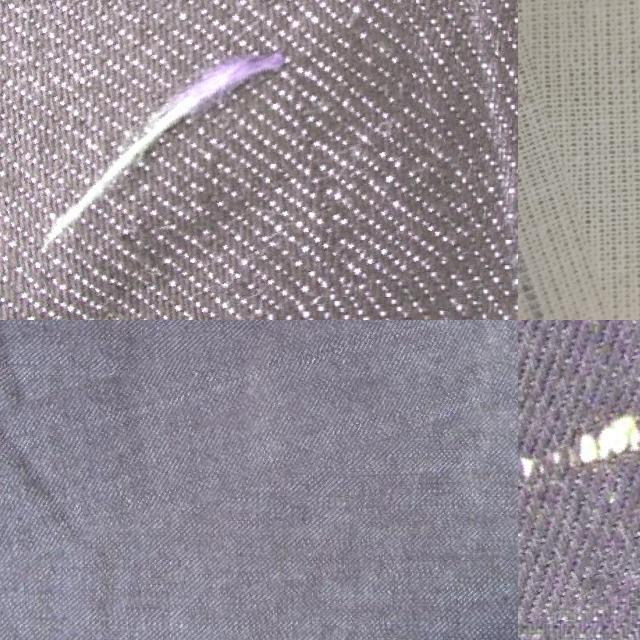stains: (0, 320, 518, 528), (518, 320, 640, 606), (518, 0, 604, 320)
